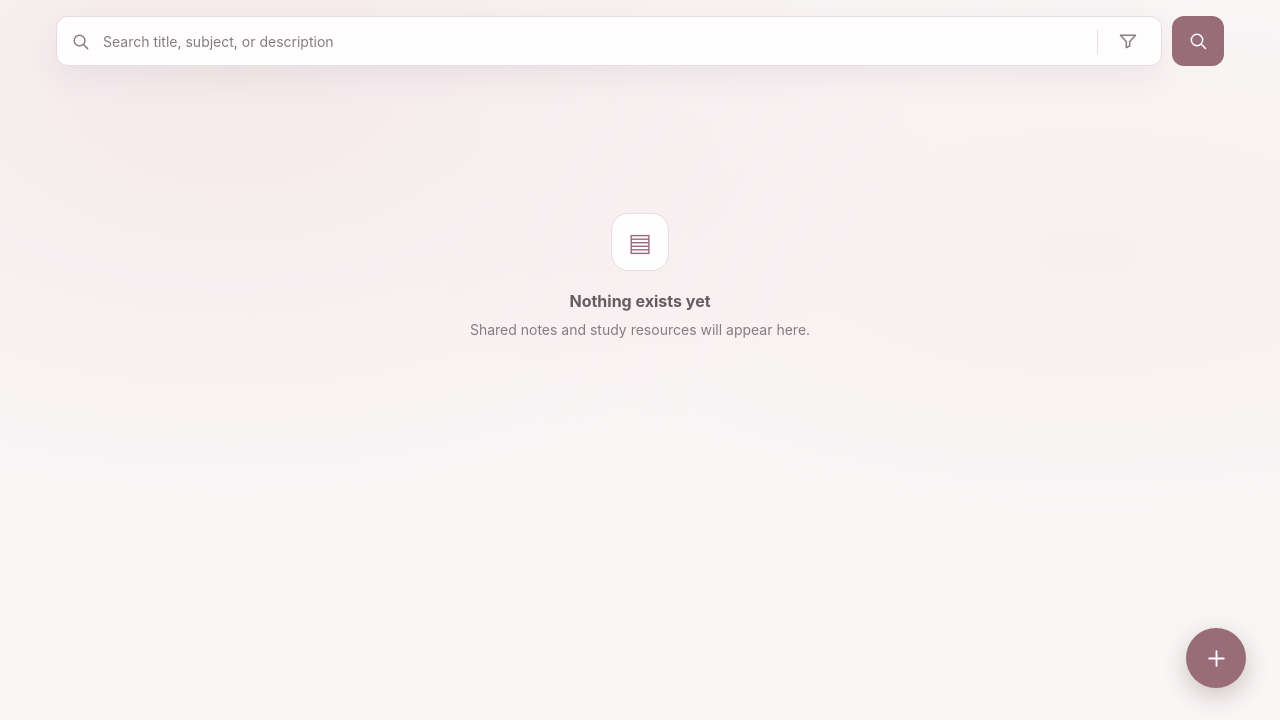
Test: shows the empty library state and opens a separate upload form
Check: the text "Nothing exists yet" is shown, box [570,289,711,314]
What coordinates should you click on to do the following:
click the button named "Upload a material"
I would click on:
 (1216, 658)
Its box is [1186,628,1246,688].
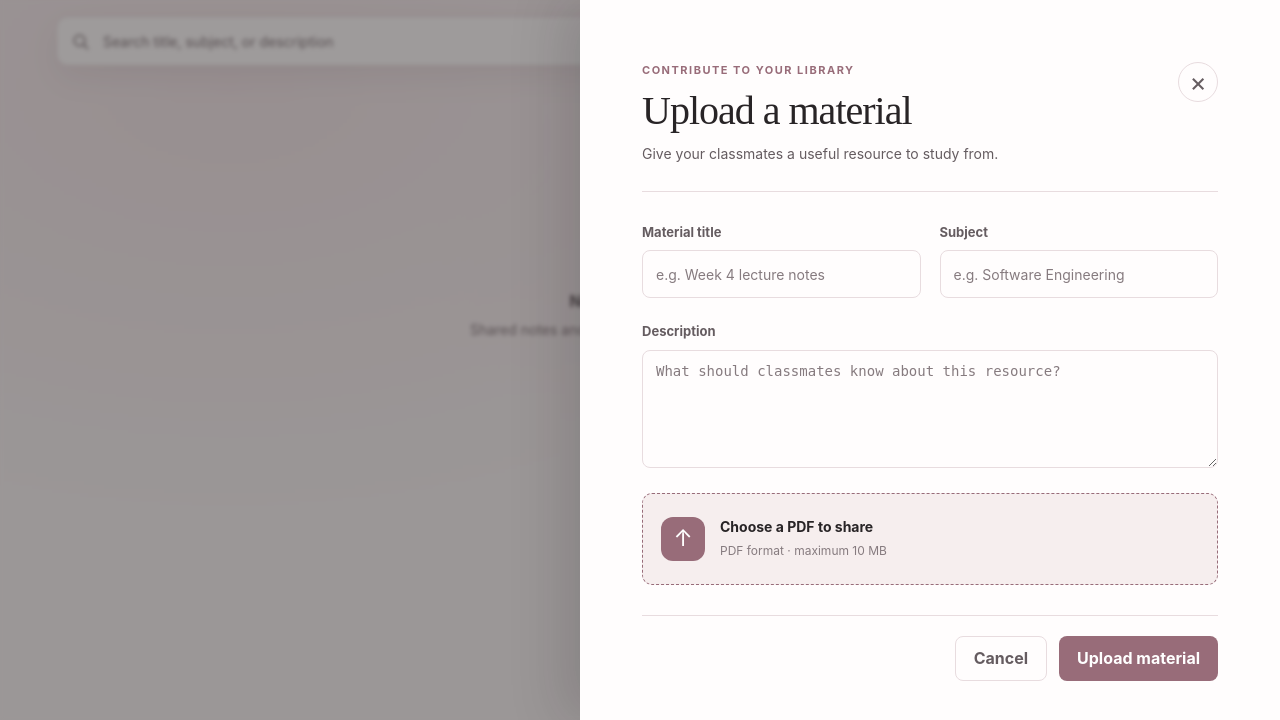
Check: the dialog "Upload a material" is shown, box [580,0,1279,719]
Check: the field labelled "Material title" is shown, box [642,250,920,298]
